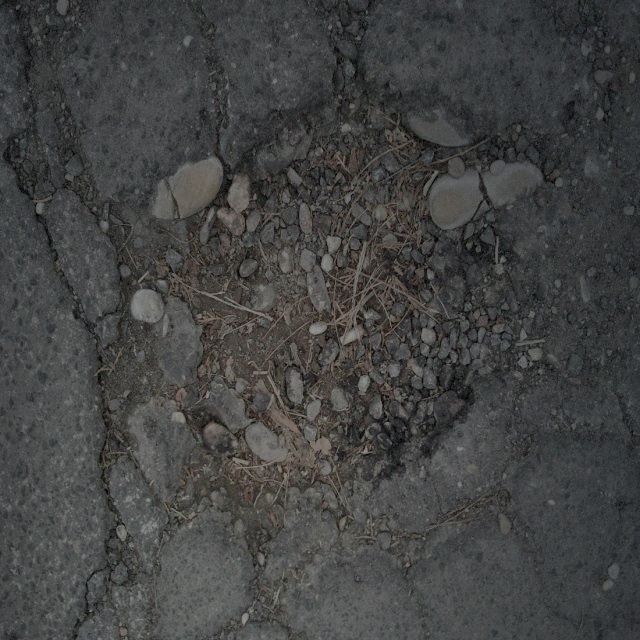pothole: (102, 90, 518, 523)
